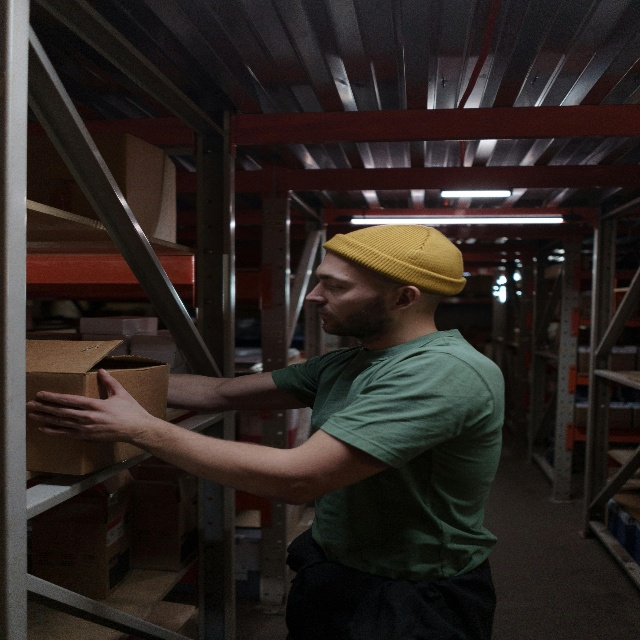Sin_guantes: (26, 368, 146, 444)
